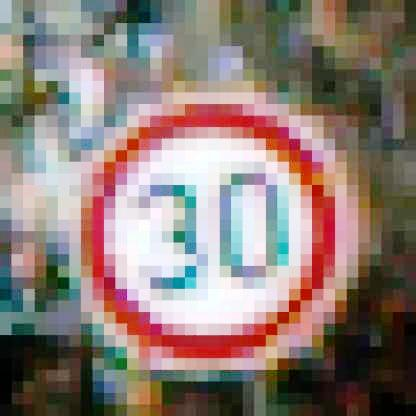Speed Limit -30-: (74, 90, 365, 372)
